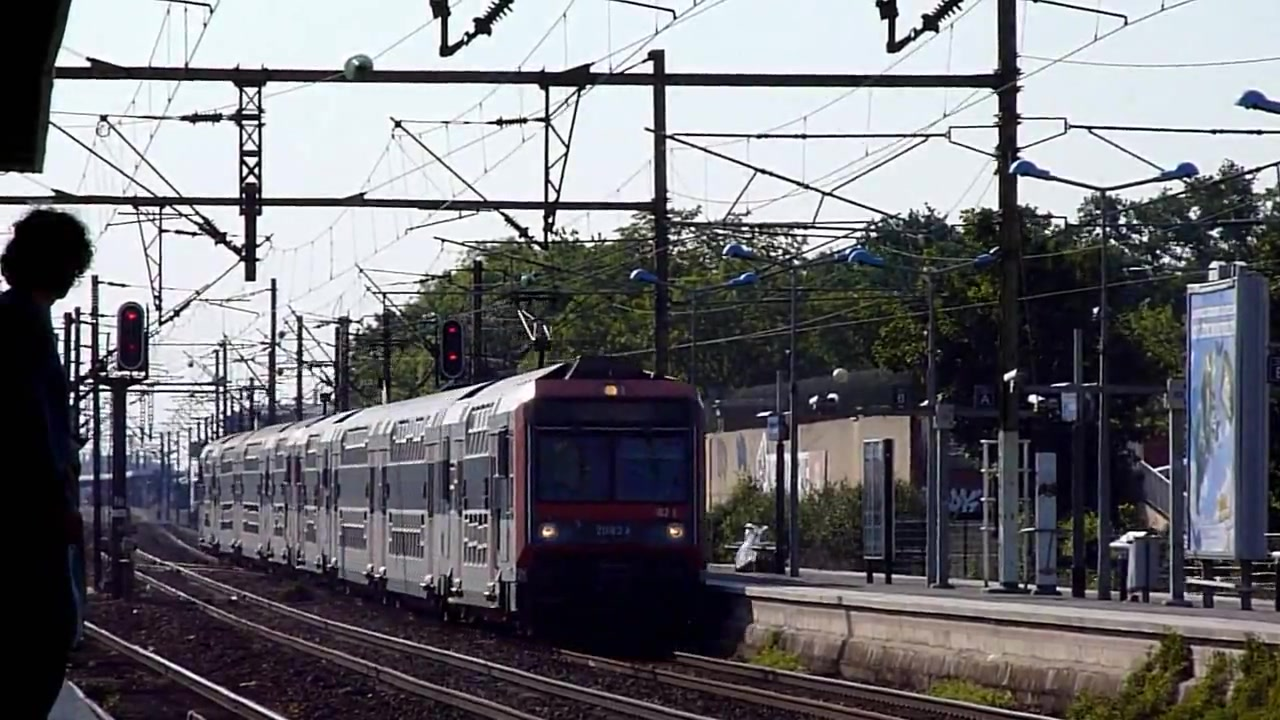train: (193, 356, 715, 630)
